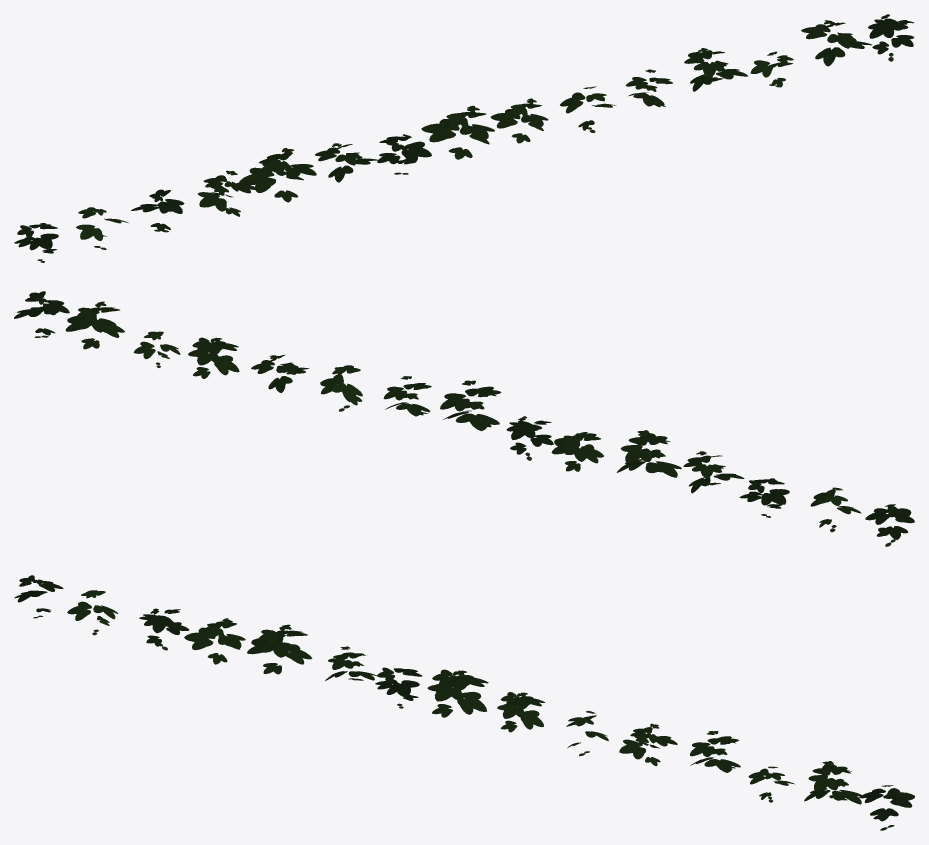
The model's file is ROW_15_SEG1_foliage.dae.
3 views of the same model, one above another, from view 1: azimuth 30°, elevation 25°; view 2: azimuth 150°, elevation 25°; view 3: azimuth 330°, elevation 25° (orthographic).
Parts seen in each view (by area): view 1: ROW_15_SEG1_foliage; view 2: ROW_15_SEG1_foliage; view 3: ROW_15_SEG1_foliage.
Boxes of the visible parts, x1,y1,x2,y2 form: ROW_15_SEG1_foliage: (14,14,914,262); ROW_15_SEG1_foliage: (14,291,914,546); ROW_15_SEG1_foliage: (14,575,914,830).
Bounding box in the file's own units: 4.46 × 0.3834 × 0.2677.
